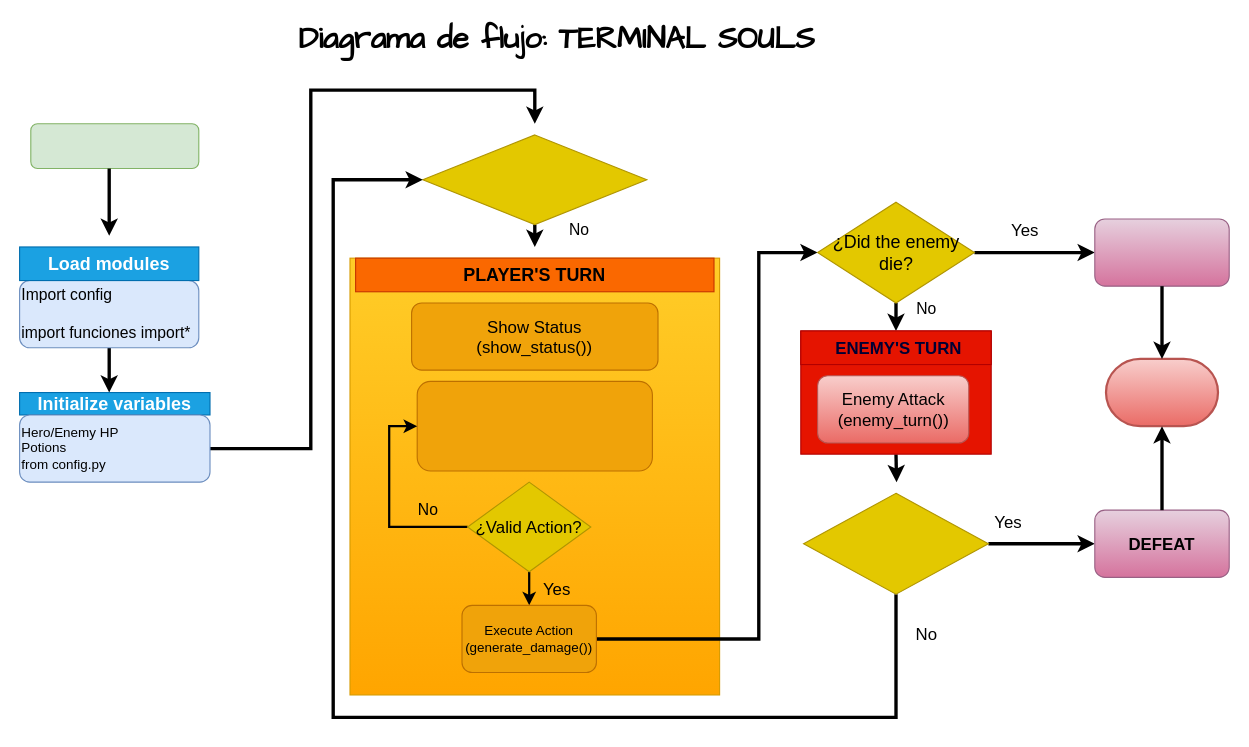
Image size: 1249x747. Some labels were removed from this diagram. The centre of each missing label's shape, as x and y in pixels:
"Choose Action: 1.Attack 2.Heal 3.Special Ability" belongs at (534,425).
"END" belongs at (1161,392).
"GAME LOOP : ¿is there a winner?" belongs at (534,179).
"START" belongs at (114,146).
"VICTORY" belongs at (1161,252).
"¿Did the Hero die?" belongs at (895,543).
